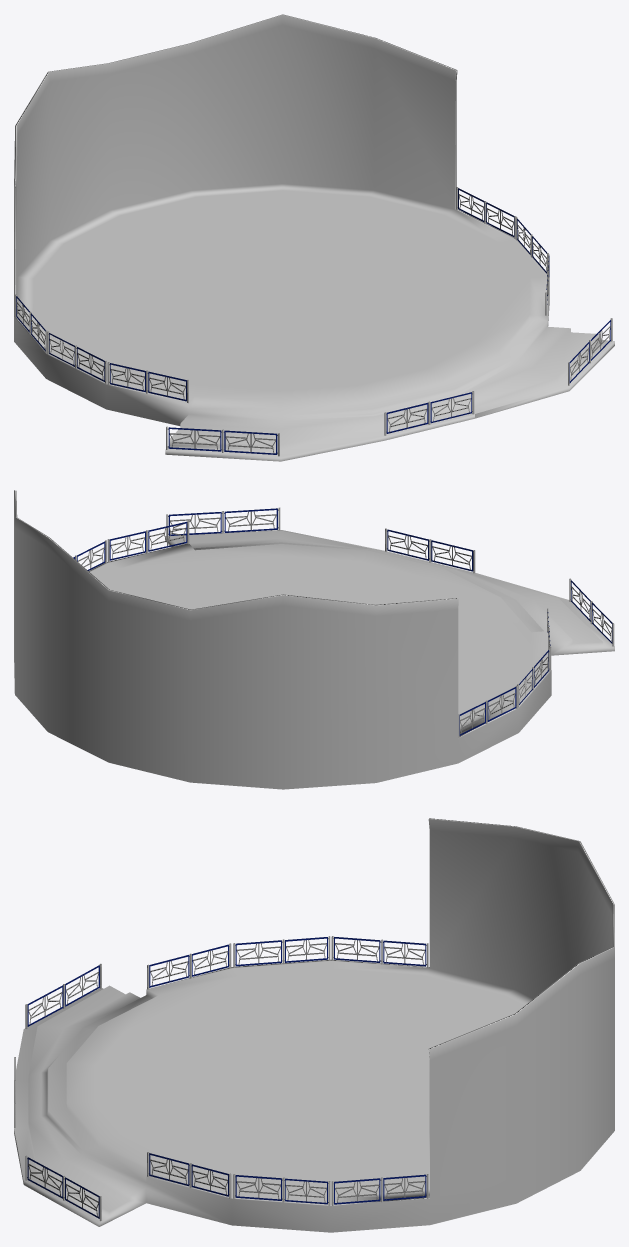
Rendered from plattform_typ02.fbx.
The picture shows the model from 3 angles, top to bottom: view 1: azimuth 30°, elevation 25°; view 2: azimuth 150°, elevation 25°; view 3: azimuth 270°, elevation 25°; orthographic projection. The views are drawn at different scales.
Visible parts, largest first — view 1: Mesh; view 2: Mesh; view 3: Mesh.
Boxes of the visible parts, x1=… form: Mesh: x1=14, y1=14, x2=614, y2=461; Mesh: x1=14, y1=490, x2=614, y2=789; Mesh: x1=14, y1=818, x2=614, y2=1232.
Bounding box in the file's own units: 2147 × 842 × 2214.
